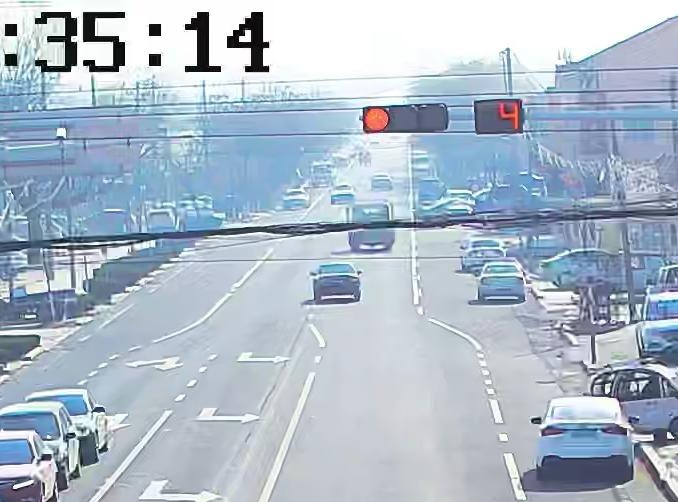red: (364, 107, 391, 132)
redtime: (496, 101, 522, 132)
